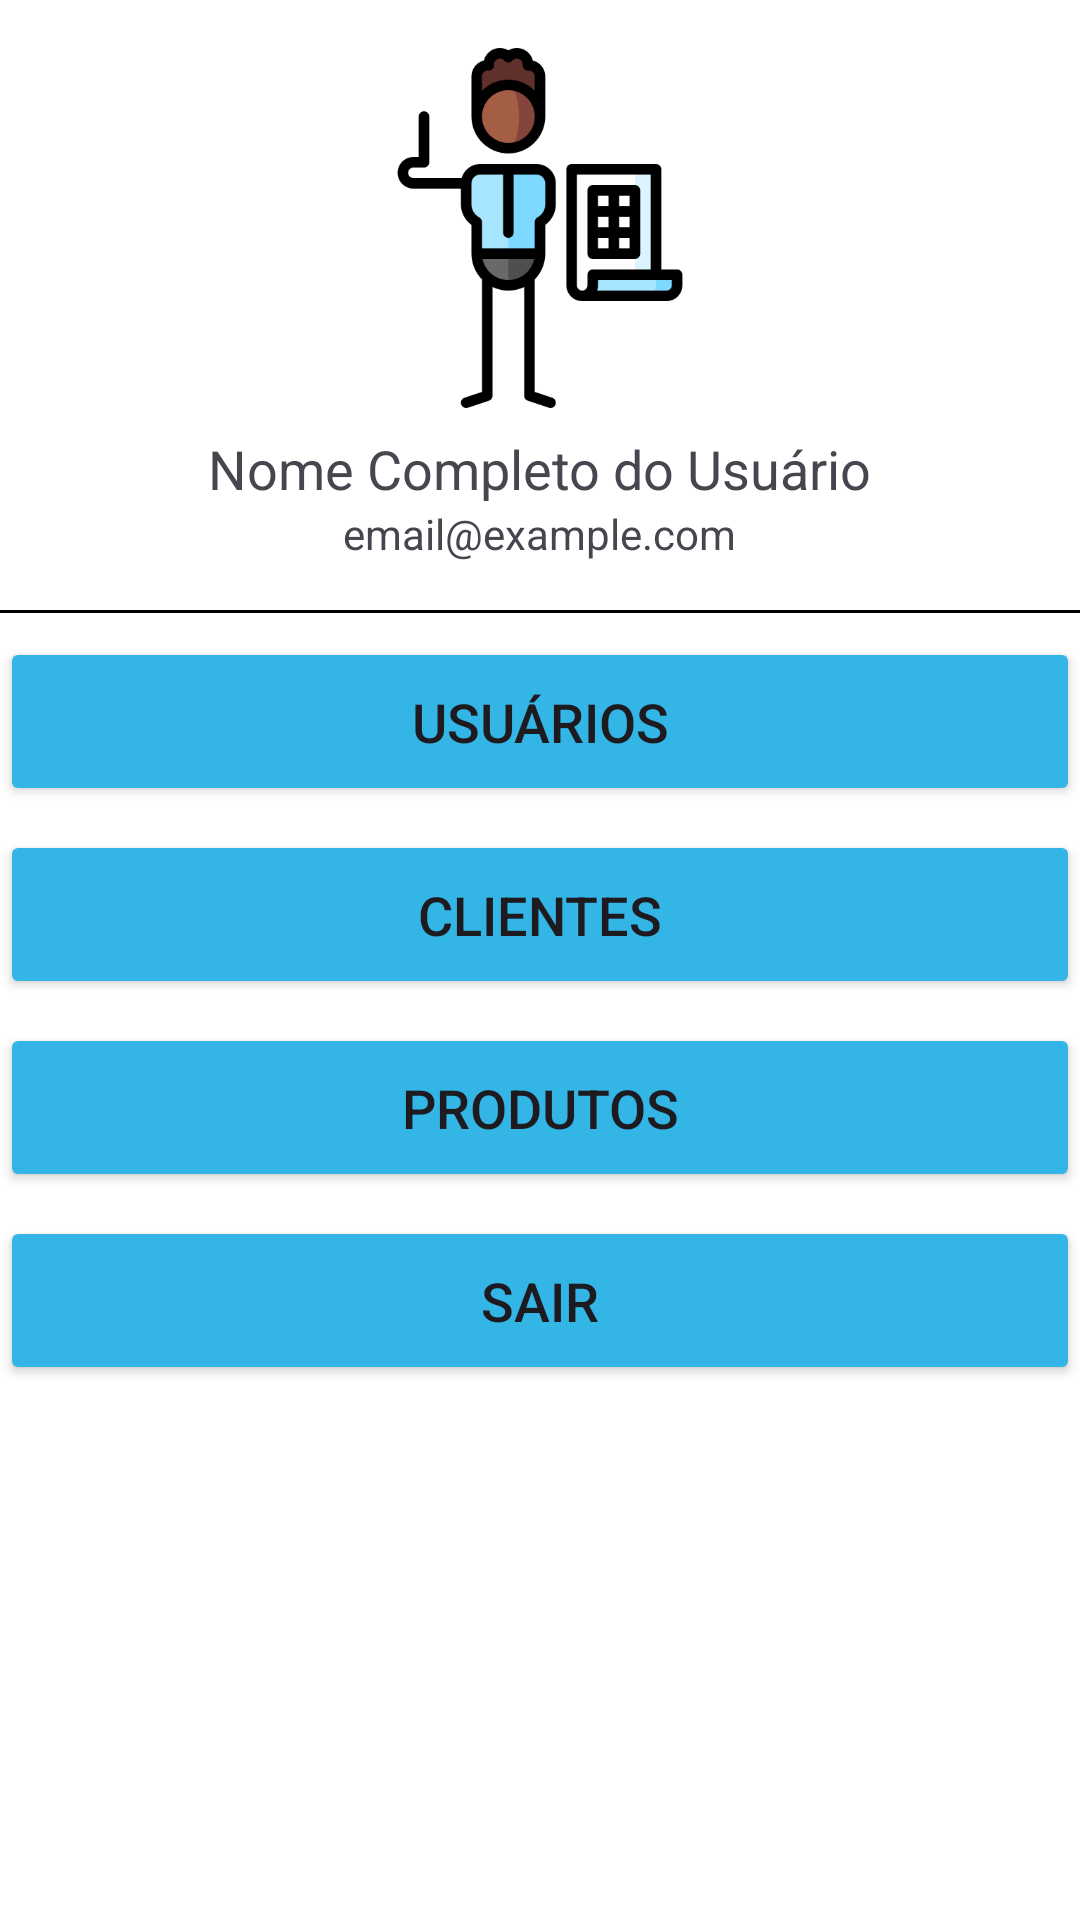

Where to tap for icons on this 1080*1920 app screen, as (x=x, y=y):
imagem: (x=540, y=228)
